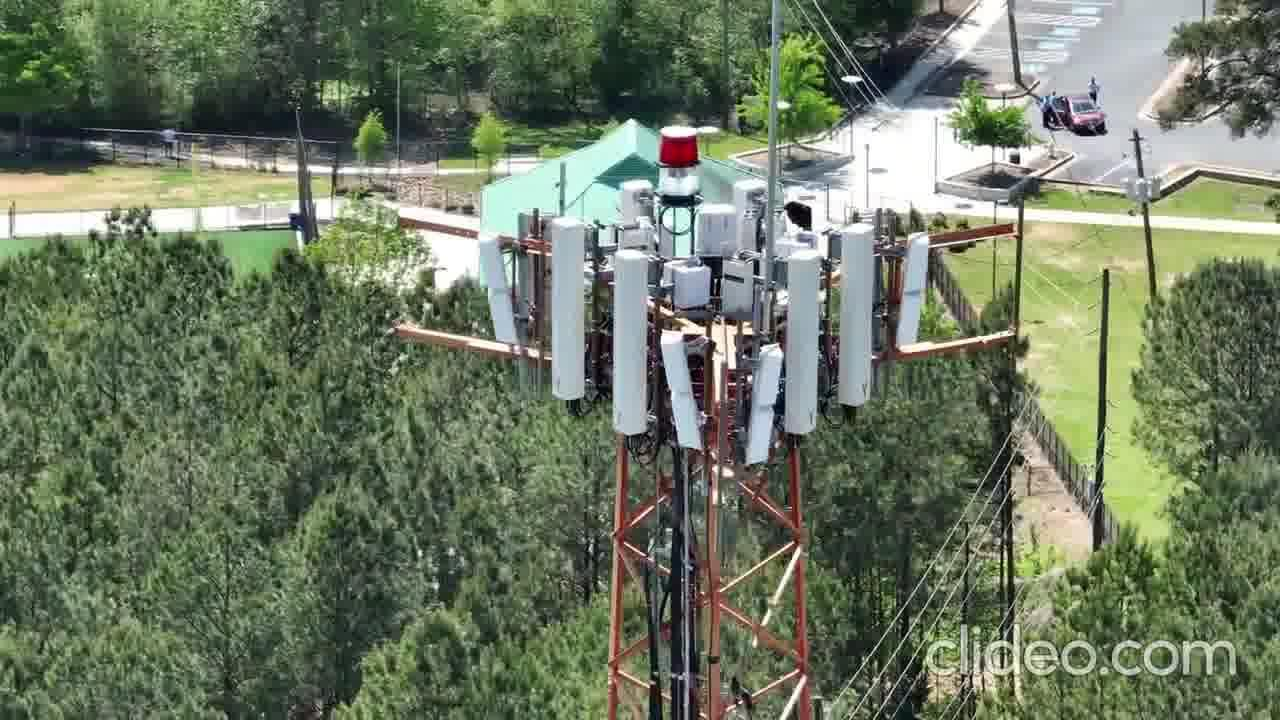antenna: (831, 207, 879, 422), (611, 236, 655, 441), (550, 210, 587, 409), (785, 240, 820, 450), (657, 326, 704, 458), (474, 216, 518, 345), (739, 347, 784, 464), (899, 216, 929, 358)
